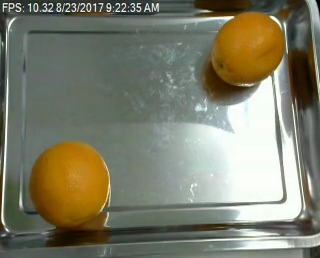Orange: (29, 140, 109, 226), (211, 11, 286, 86)
